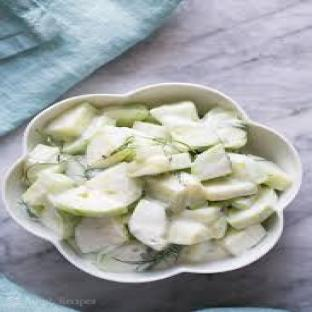Cucumber: (86, 163, 141, 206), (48, 187, 127, 216), (227, 188, 277, 229), (62, 116, 115, 154), (86, 126, 134, 167), (128, 200, 167, 250), (45, 103, 97, 140), (76, 218, 127, 253), (23, 173, 75, 206), (96, 242, 146, 272), (24, 145, 64, 182), (145, 174, 184, 211), (40, 204, 80, 239), (191, 145, 231, 180), (220, 225, 265, 255), (128, 146, 170, 176), (169, 123, 219, 148), (255, 157, 291, 190), (168, 218, 211, 245), (151, 101, 199, 125), (203, 179, 257, 200), (181, 241, 230, 263), (229, 154, 265, 183), (103, 105, 148, 127), (178, 173, 206, 208), (202, 107, 245, 128), (93, 149, 134, 169), (180, 206, 223, 224), (215, 128, 247, 149), (133, 122, 168, 139), (65, 156, 86, 184), (208, 216, 228, 239), (169, 154, 190, 171), (231, 196, 255, 209)
